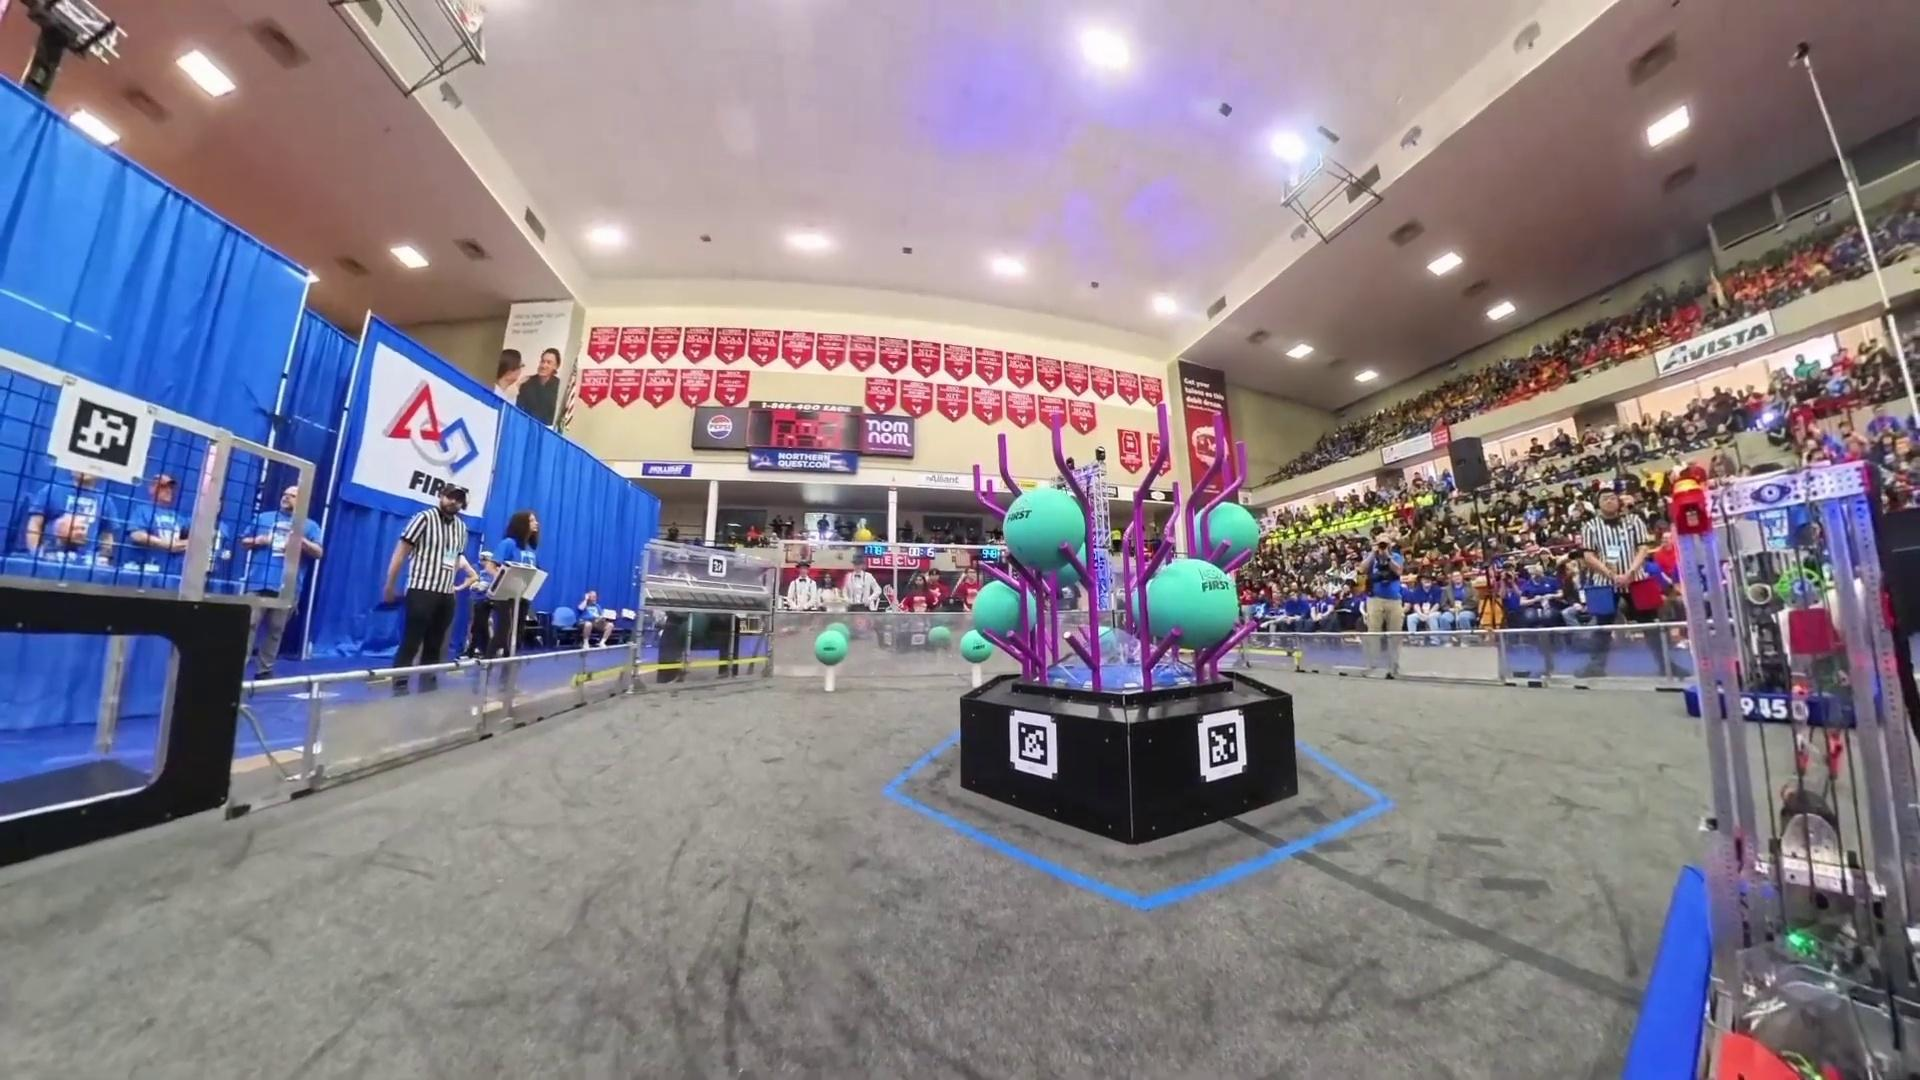robot: (1615, 462, 1920, 1080), (1685, 521, 1882, 733)
